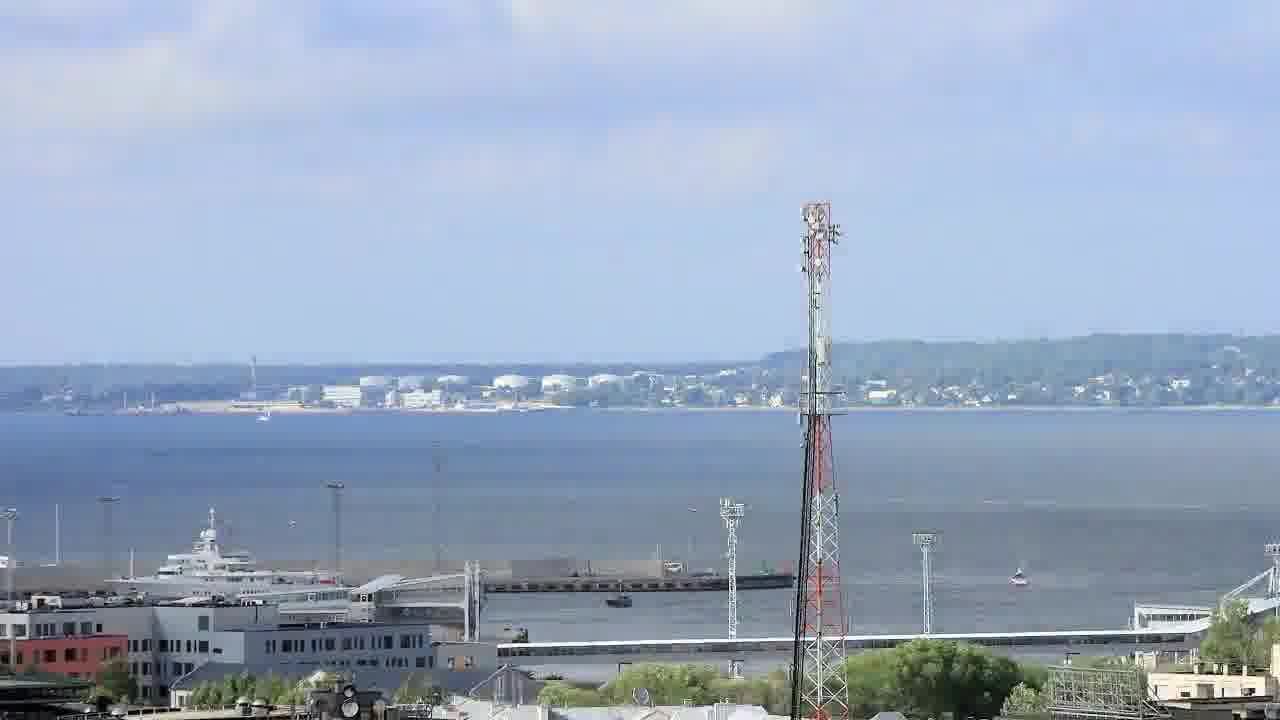type-0: (590, 579, 646, 616), (998, 565, 1034, 596)
type-3: (80, 497, 367, 610)
